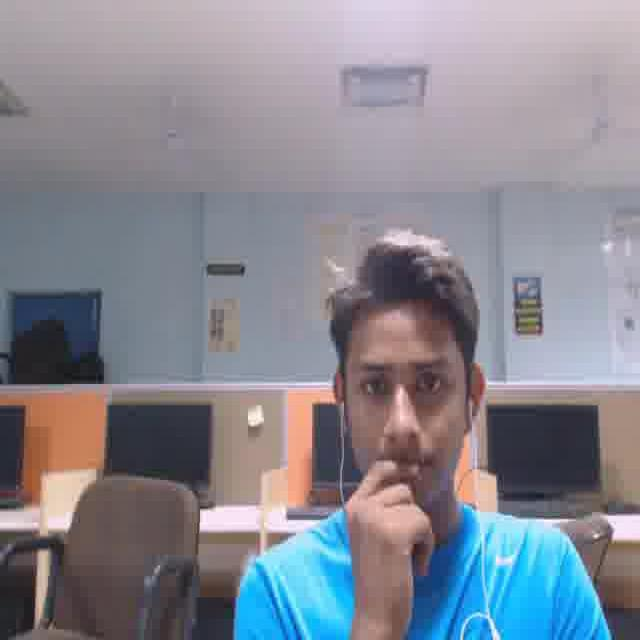Confusion: (345, 314, 462, 510)
